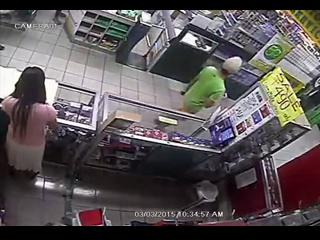Normal: (0, 66, 60, 181), (180, 56, 243, 114)
